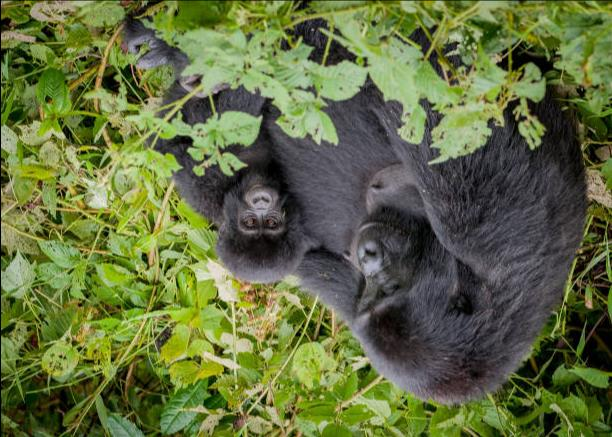goriile_montagne: (277, 5, 591, 416), (117, 0, 302, 304)
